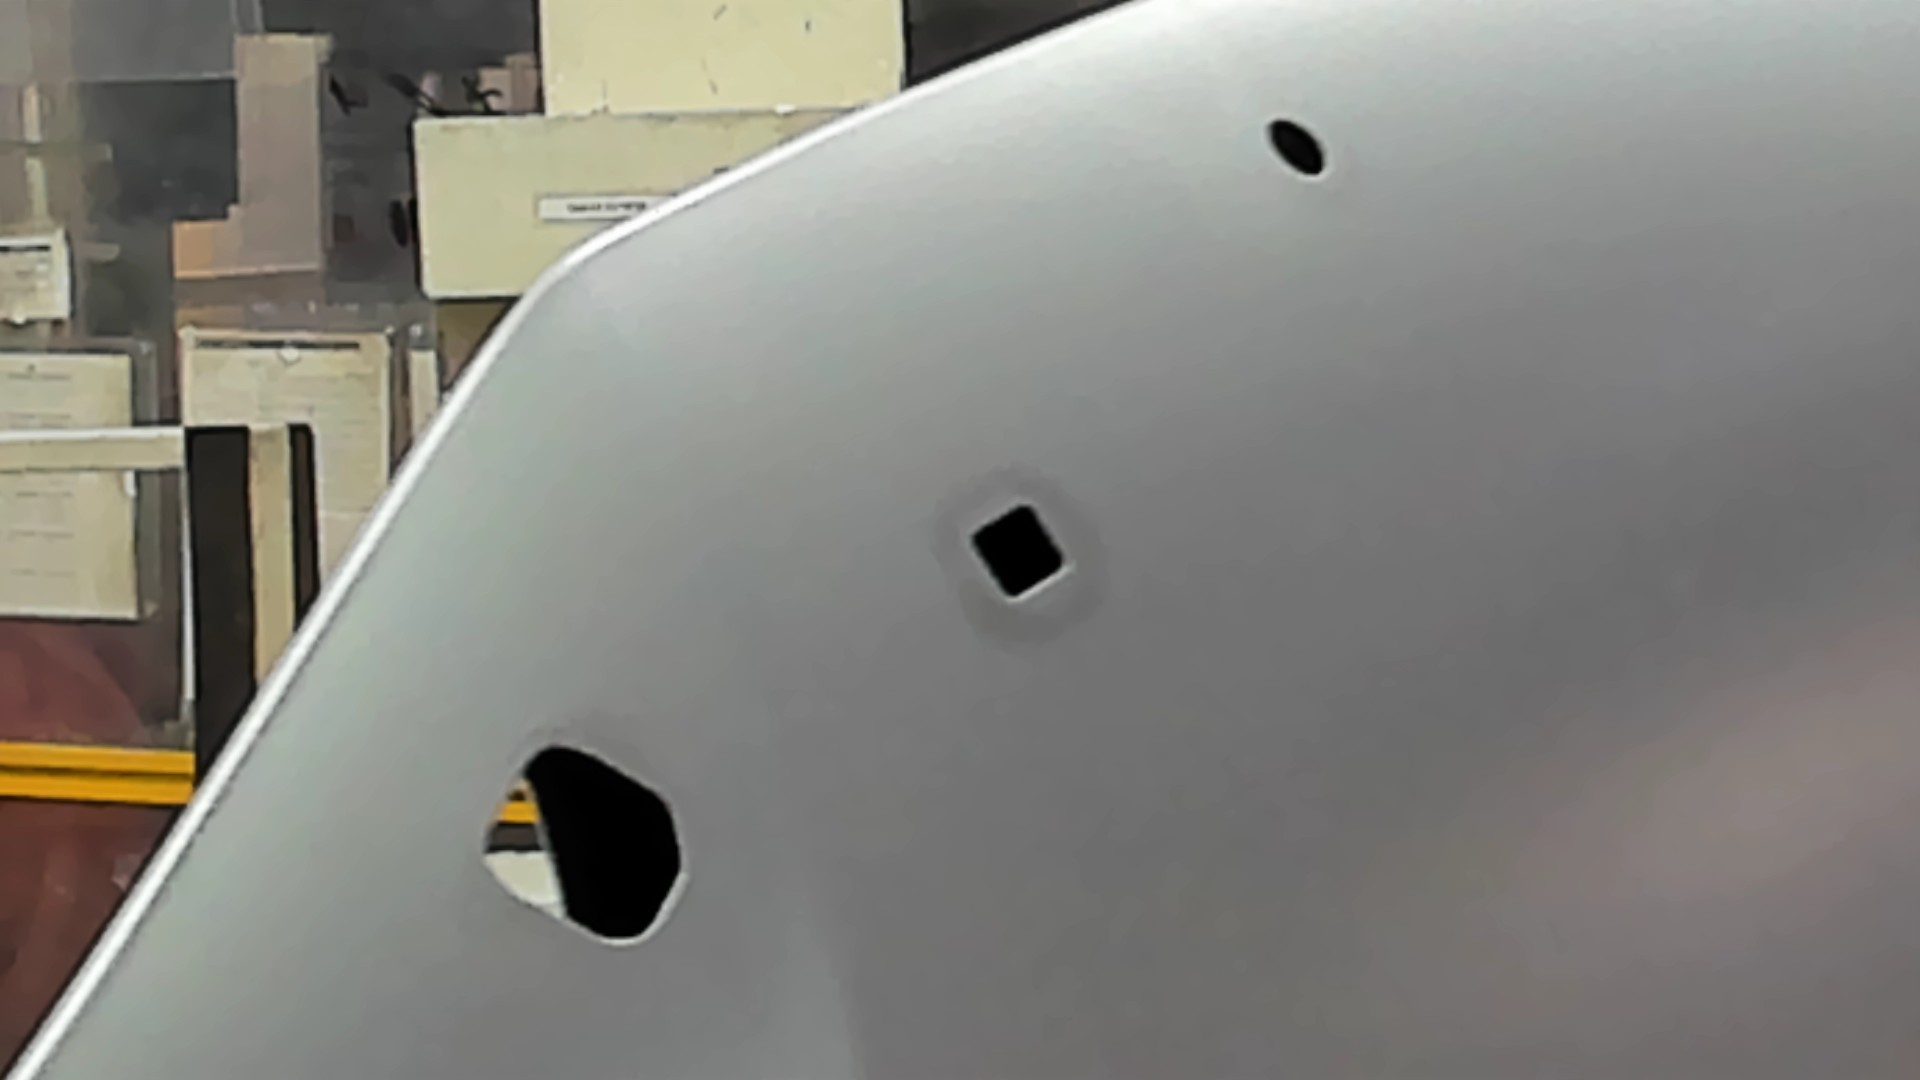capo: (1079, 183, 1920, 1080)
chico: (1266, 113, 1329, 182)
grande: (473, 735, 686, 953)
mediano: (957, 497, 1077, 608)
